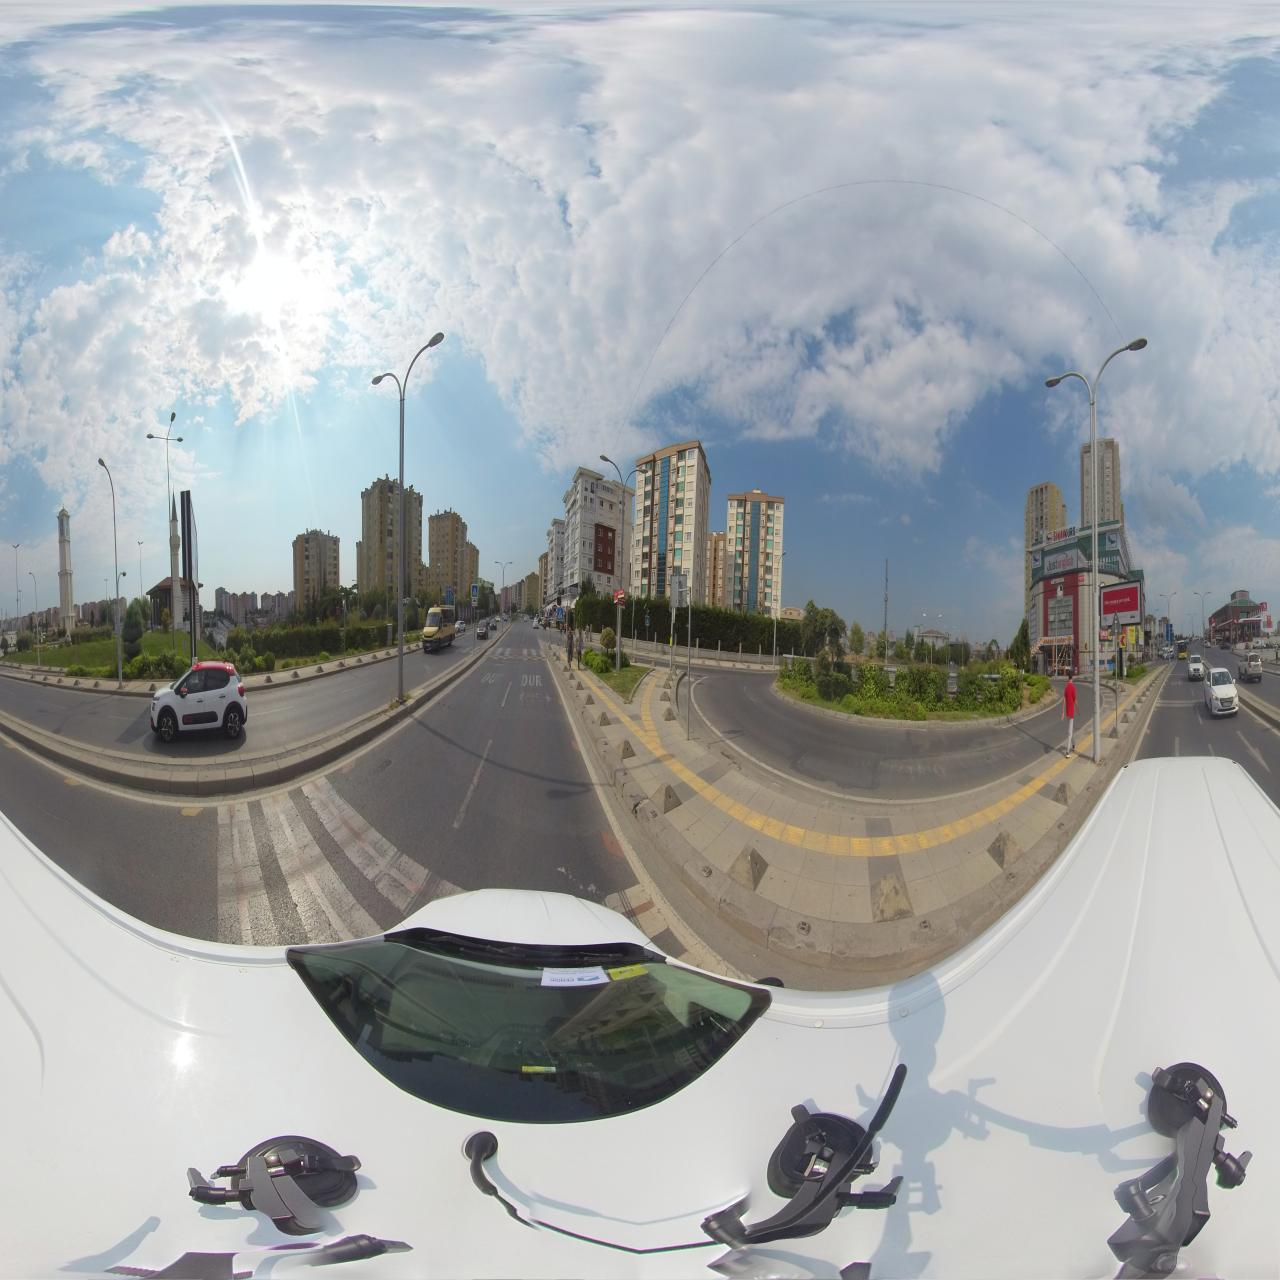SignStore: (1043, 635, 1068, 645)
